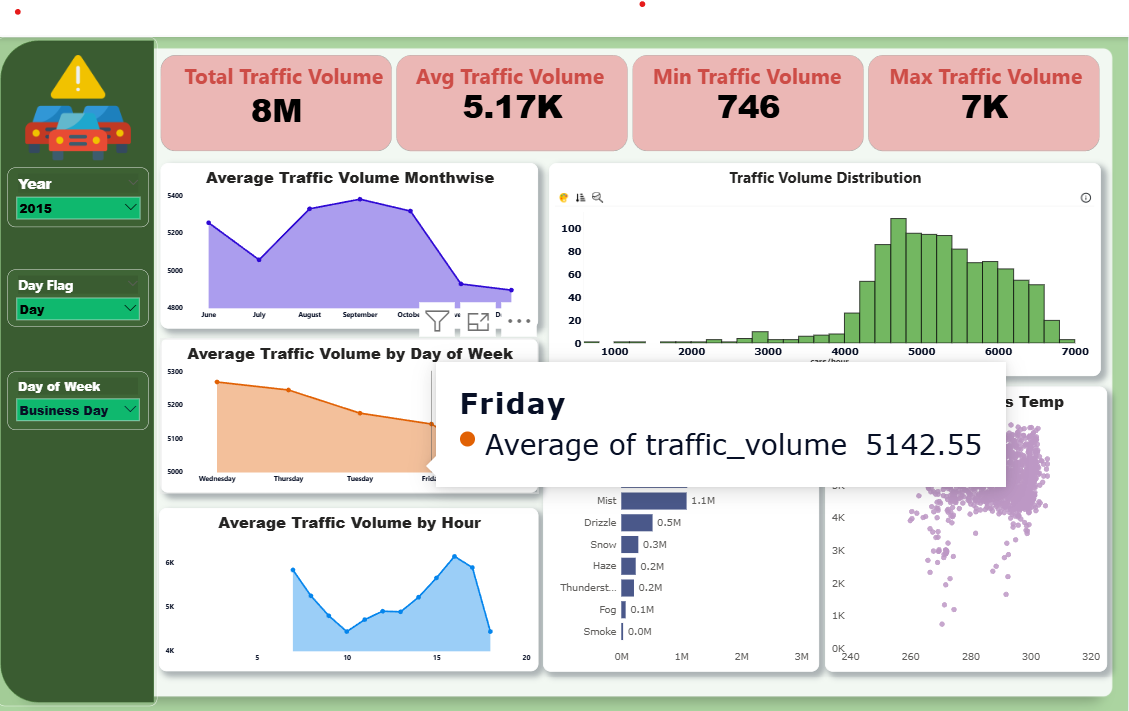

The page's visual inventory and layout, read from the dashboard file:
{"tool":"powerbi","page":{"name":"Traffic Indicators","canvas":[2000,1200],"ordinal":1},"visuals":[{"type":"shape","box":[0,0,283.7,1182.4],"z":0},{"type":"cardVisual","fields":{"Data":["Sum(Metro_Interstate_Traffic_Volume.traffic_volume)","Avg(Metro_Interstate_Traffic_Volume.traffic_volume)","Min(Metro_Interstate_Traffic_Volume.traffic_volume)","Max(Metro_Interstate_Traffic_Volume.traffic_volume)"]},"box":[283.7,26.5,1672.2,180.6],"z":0,"group":"g1"},{"type":"slicer","fields":{"Values":["Metro_Interstate_Traffic_Volume.day_flag"]},"box":[18.6,410.9,249.2,100.7],"z":1000},{"type":"slicer","fields":{"Values":["Metro_Interstate_Traffic_Volume.year"]},"box":[17.5,230,250,105],"z":2000},{"type":"slicer","fields":{"Values":["Metro_Interstate_Traffic_Volume.day_of_week"]},"box":[18.6,591.2,249.2,103.4],"z":3000},{"type":"stackedAreaChart","title":"Average Traffic Volume Monthwise","fields":{"Category":["Metro_Interstate_Traffic_Volume.date_time.Variation.Date Hierarchy.Month"],"Y":["Avg(Metro_Interstate_Traffic_Volume.traffic_volume)"]},"box":[290,222.5,667.5,292.5],"z":5000},{"type":"areaChart","title":"Average Traffic Volume by Hour","fields":{"Category":["Metro_Interstate_Traffic_Volume.hour"],"Y":["Avg(Metro_Interstate_Traffic_Volume.traffic_volume)"]},"box":[286.3,832.4,670.7,289],"z":6000},{"type":"barChart","title":"Impact of Weather","fields":{"Y":["Sum(Metro_Interstate_Traffic_Volume.traffic_volume)"],"Category":["Metro_Interstate_Traffic_Volume.weather_main"]},"box":[965,617.7,487.8,503.7],"z":7000},{"type":"areaChart","title":"Average Traffic Volume by Day of Week","fields":{"Category":["Metro_Interstate_Traffic_Volume.day"],"Y":["Avg(Metro_Interstate_Traffic_Volume.traffic_volume)"]},"box":[290,532.5,667.5,272.5],"z":8000},{"type":"scatterChart","title":"Traffic Volume vs Temp","fields":{"X":["Metro_Interstate_Traffic_Volume.temp"],"Y":["Metro_Interstate_Traffic_Volume.traffic_volume"]},"box":[1463.4,617.7,498.4,503.7],"z":9000},{"type":"histogram7D0E580F1FEB4DDA901A6D8146EA6387","title":"Traffic Volume Distribution","fields":{"col_2":["Metro_Interstate_Traffic_Volume.traffic_volume"]},"box":[975.6,222.7,975.6,376.4],"z":10000},{"type":"group","id":"g1","title":"Group 1","box":[283.7,26.5,1672.2,180.6],"z":11000},{"type":"textbox","box":[319.8,37.6,372.2,66.7],"z":12000,"group":"g1"},{"type":"image","box":[18.6,26.5,249.2,196.2],"z":12000},{"type":"textbox","box":[724.7,38.4,365.8,66.3],"z":13000,"group":"g1"},{"type":"textbox","box":[1144.8,37.6,361.1,75],"z":14000,"group":"g1"},{"type":"textbox","box":[1558.7,37.6,377.8,66.7],"z":15000,"group":"g1"}]}

Visuals, with their boxes on the page's 2000x1200 design canvas (x1, y1, x2, y2). These are canvas units, not pixel positions in the 1129x711 screenshot, which may show the page scaled, cropped or inside an application window:
shape: 0,0,284,1182
cardVisual - Sum(Metro_Interstate_Traffic_Volume.traffic_volume) x Avg(Metro_Interstate_Traffic_Volume.traffic_volume): 284,26,1956,207
slicer - Metro_Interstate_Traffic_Volume.day_flag: 19,411,268,512
slicer - Metro_Interstate_Traffic_Volume.year: 18,230,268,335
slicer - Metro_Interstate_Traffic_Volume.day_of_week: 19,591,268,695
"Average Traffic Volume Monthwise" stackedAreaChart: 290,222,958,515
"Average Traffic Volume by Hour" areaChart: 286,832,957,1121
"Impact of Weather" barChart: 965,618,1453,1121
"Average Traffic Volume by Day of Week" areaChart: 290,532,958,805
"Traffic Volume vs Temp" scatterChart: 1463,618,1962,1121
"Traffic Volume Distribution" histogram7D0E580F1FEB4DDA901A6D8146EA6387: 976,223,1951,599
"Group 1" group: 284,26,1956,207
textbox: 320,38,692,104
image: 19,26,268,223
textbox: 725,38,1090,105
textbox: 1145,38,1506,113
textbox: 1559,38,1936,104
